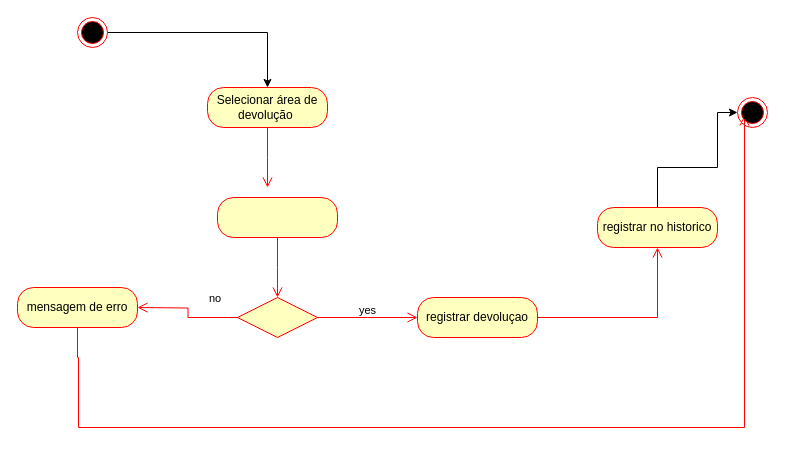
Image size: 785x455. Some labels were removed from this diagram. The shapes that lost their labels are listed below. From the top down, each one's box as (x1, y1, x2, y2) in pixels, then its label:
(216, 196, 338, 238): selecionar livro
(236, 296, 318, 338): existe?
